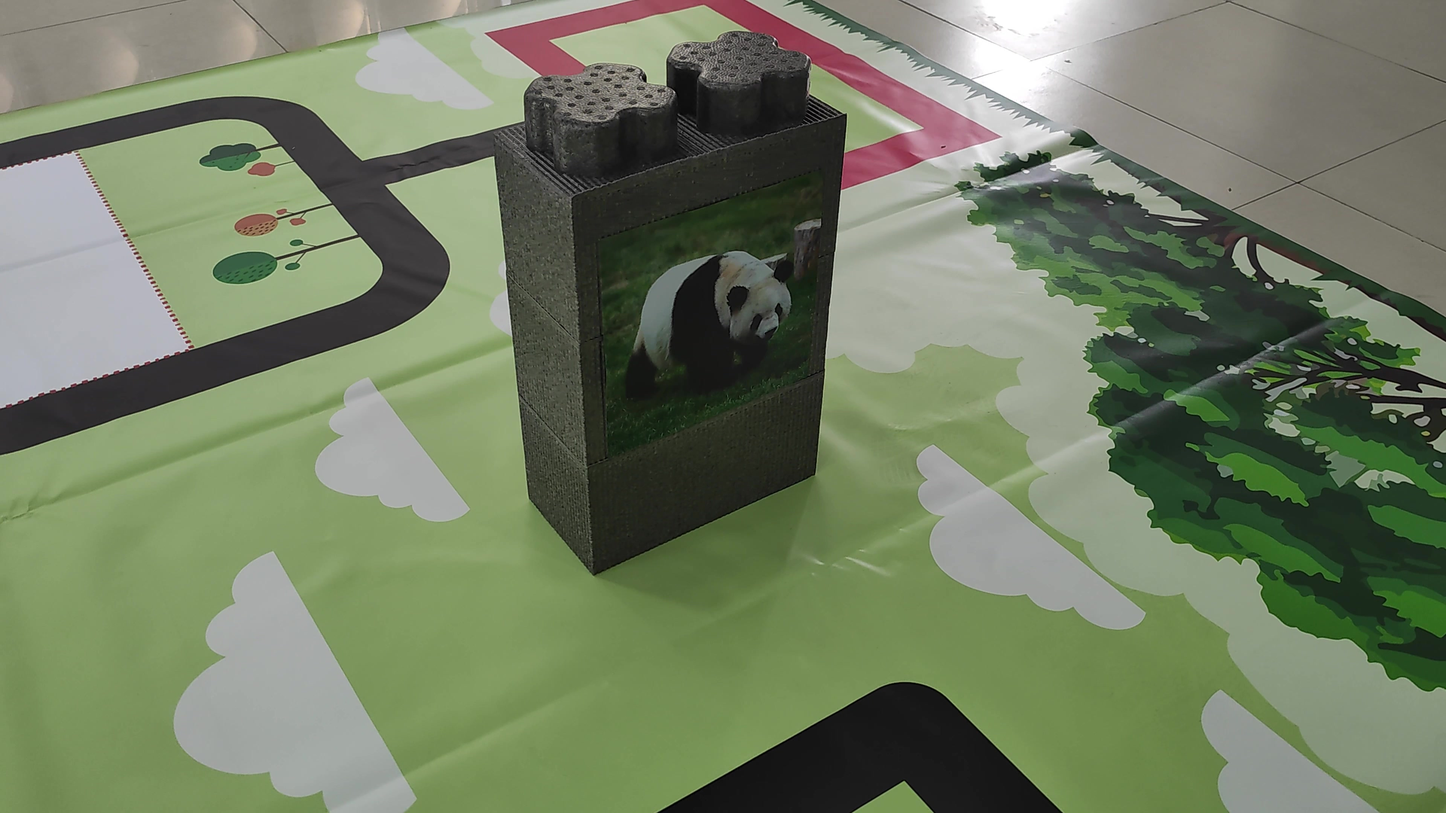panda: (590, 198, 811, 428)
